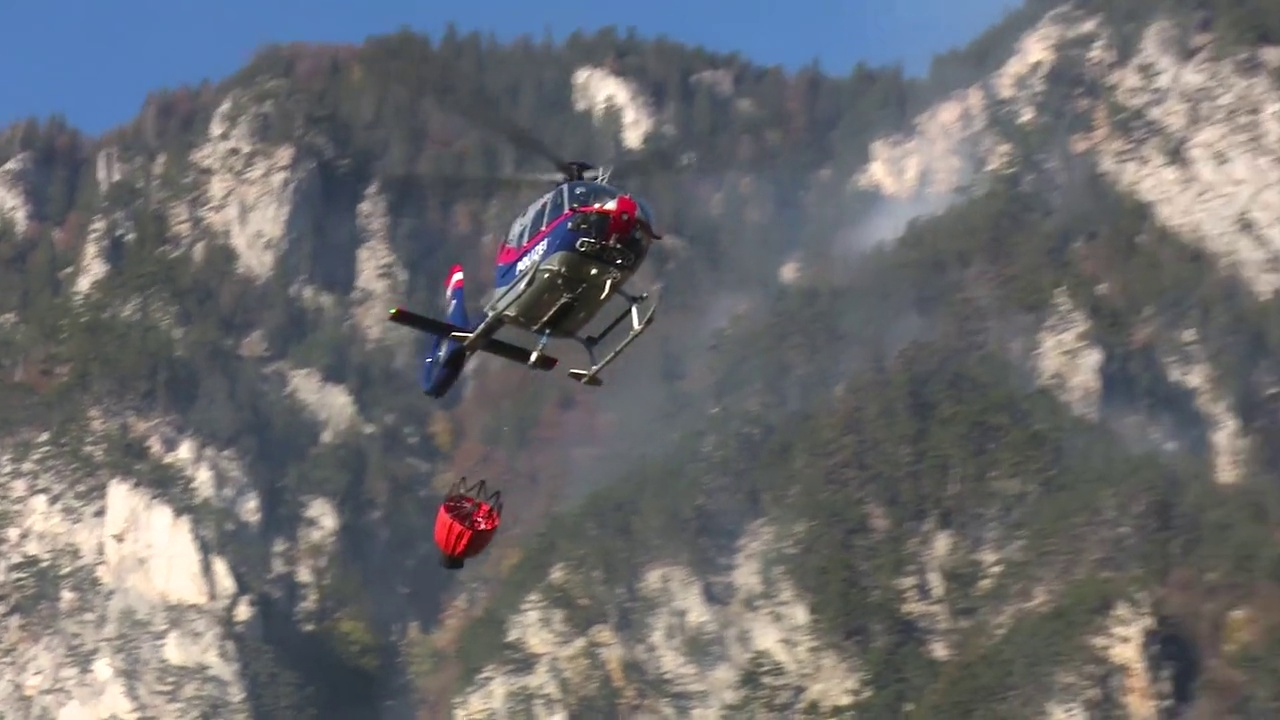heli: (386, 90, 667, 398)
